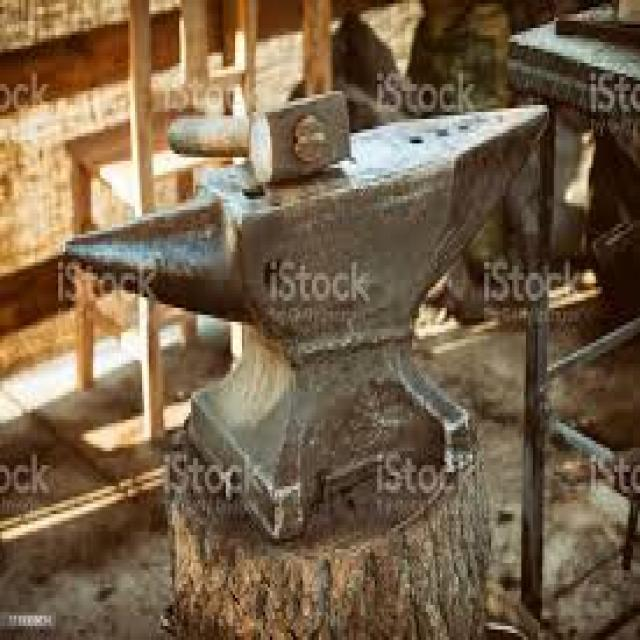hammer: (159, 60, 362, 186)
